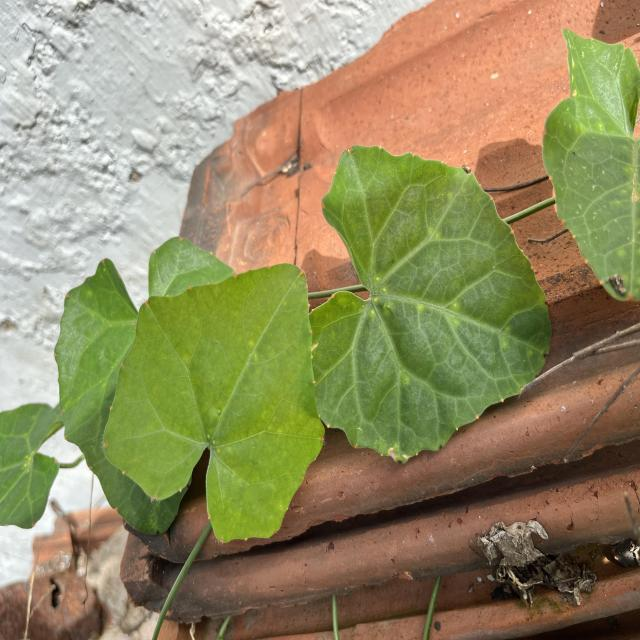Coccinia grandis: (310, 140, 558, 470), (101, 258, 328, 547)
